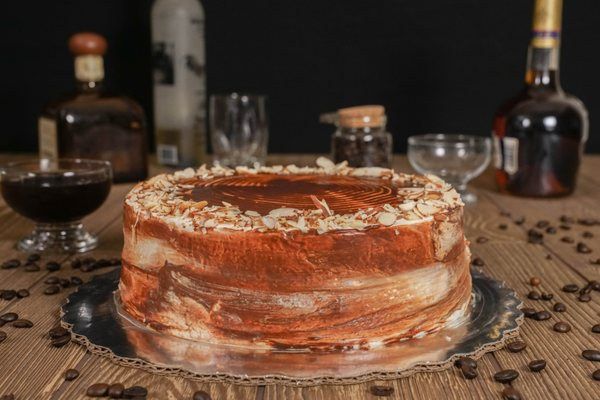pizza: (208, 92, 270, 169)
